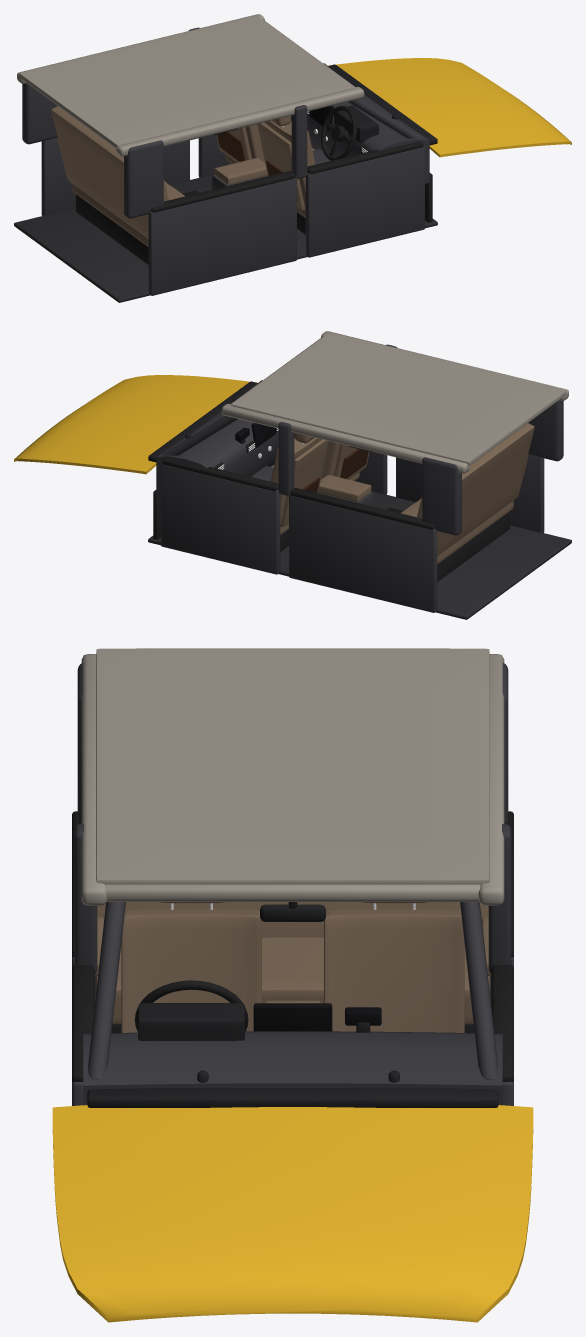
The model's file is taxi_cabin.glb.
3 renders of one model, top to bottom at view 1: azimuth 30°, elevation 25°; view 2: azimuth 150°, elevation 25°; view 3: azimuth 270°, elevation 25°, orthographic. The views are drawn at different scales.
Parts seen in each view (by area): view 1: Headliner_LOD0, DoorCard_LOD0.003, Bonnet_LOD0, DoorCard_LOD0.002, Floor_LOD0, RearBack_LOD0, DoorCard_LOD0.001, CPillar_LOD0.001, RoofRail_LOD0.001, Dash_LOD0, CPillar_LOD0, RearBase_LOD0 (+17 smaller); view 2: Headliner_LOD0, DoorCard_LOD0.001, Bonnet_LOD0, DoorCard_LOD0, Floor_LOD0, RearBack_LOD0, Dash_LOD0, DoorCard_LOD0.003, CPillar_LOD0, RoofRail_LOD0, CPillar_LOD0.001, RearBase_LOD0 (+16 smaller); view 3: Bonnet_LOD0, Headliner_LOD0, Dash_LOD0, Back_LOD0, Back_LOD0.001, Scuttle_LOD0, Header_LOD0, RearCushion_LOD0, Binnacle_LOD0, RoofRail_LOD0.001, RoofRail_LOD0, APillar_LOD0 (+11 smaller).
Boxes of the visible parts, bbox=[...] form: Headliner_LOD0: bbox=[19, 15, 354, 148]; DoorCard_LOD0.003: bbox=[148, 177, 296, 295]; Bonnet_LOD0: bbox=[328, 58, 571, 157]; DoorCard_LOD0.002: bbox=[305, 145, 424, 257]; Floor_LOD0: bbox=[14, 149, 437, 302]; RearBack_LOD0: bbox=[51, 106, 168, 238]; DoorCard_LOD0.001: bbox=[41, 137, 189, 215]; CPillar_LOD0.001: bbox=[124, 140, 163, 218]; RoofRail_LOD0.001: bbox=[116, 86, 364, 156]; Dash_LOD0: bbox=[291, 63, 429, 183]; CPillar_LOD0: bbox=[22, 83, 57, 144]; RearBase_LOD0: bbox=[76, 194, 148, 264]; Headliner_LOD0: bbox=[231, 332, 566, 465]; DoorCard_LOD0.001: bbox=[289, 494, 437, 612]; Bonnet_LOD0: bbox=[14, 375, 257, 474]; DoorCard_LOD0: bbox=[161, 462, 280, 574]; Floor_LOD0: bbox=[148, 466, 571, 619]; RearBack_LOD0: bbox=[417, 423, 534, 555]; Dash_LOD0: bbox=[156, 380, 294, 500]; DoorCard_LOD0.003: bbox=[396, 454, 544, 532]; CPillar_LOD0: bbox=[422, 457, 461, 535]; RoofRail_LOD0: bbox=[221, 403, 469, 473]; CPillar_LOD0.001: bbox=[528, 400, 563, 461]; RearBase_LOD0: bbox=[437, 511, 509, 581]; Bonnet_LOD0: bbox=[52, 1105, 533, 1322]; Headliner_LOD0: bbox=[96, 648, 489, 884]; Dash_LOD0: bbox=[83, 1031, 502, 1105]; Back_LOD0: bbox=[324, 908, 464, 1032]; Back_LOD0.001: bbox=[121, 908, 261, 1032]; Scuttle_LOD0: bbox=[87, 1088, 498, 1107]; Header_LOD0: bbox=[105, 884, 480, 901]; RearCushion_LOD0: bbox=[96, 937, 489, 1023]; Binnacle_LOD0: bbox=[138, 1003, 244, 1040]; RoofRail_LOD0.001: bbox=[81, 654, 107, 905]; RoofRail_LOD0: bbox=[478, 654, 504, 905]; APillar_LOD0: bbox=[460, 902, 497, 1079].
Size of the model in its own units: 3.77 by 1.22 by 1.71.
